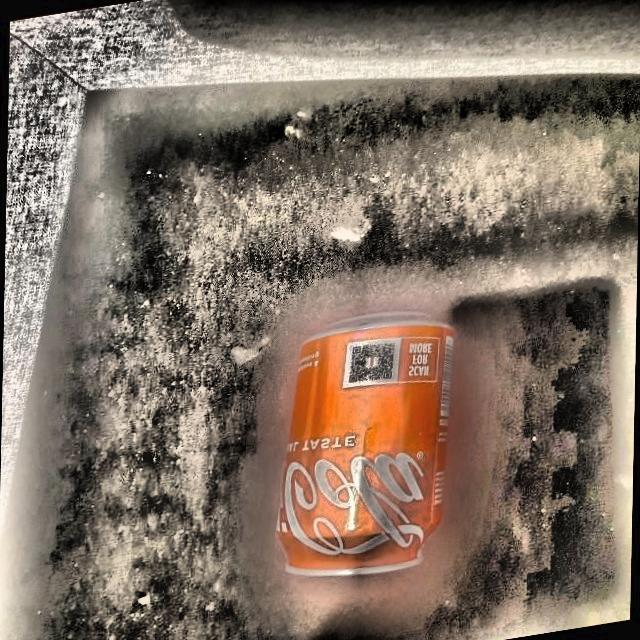coke-can: (276, 318, 460, 582)
